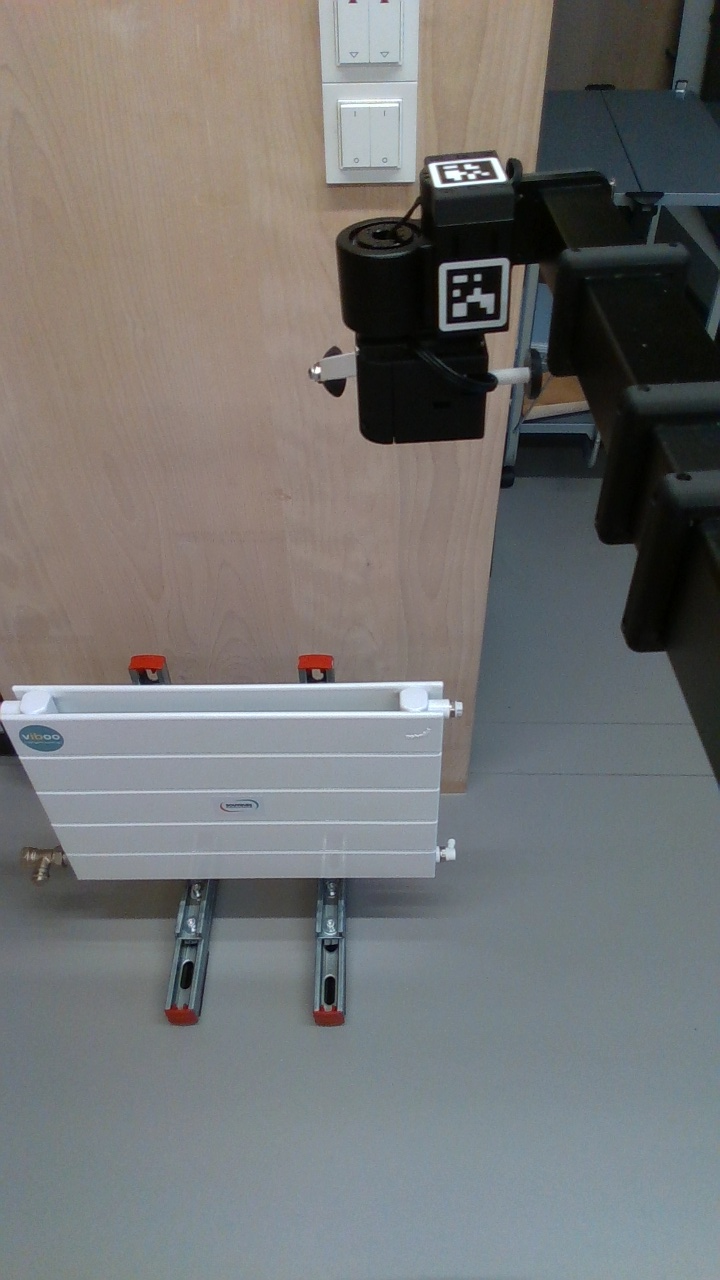Light_Switch: (324, 87, 418, 184), (321, 1, 420, 92)
Radiator: (10, 681, 453, 884)
